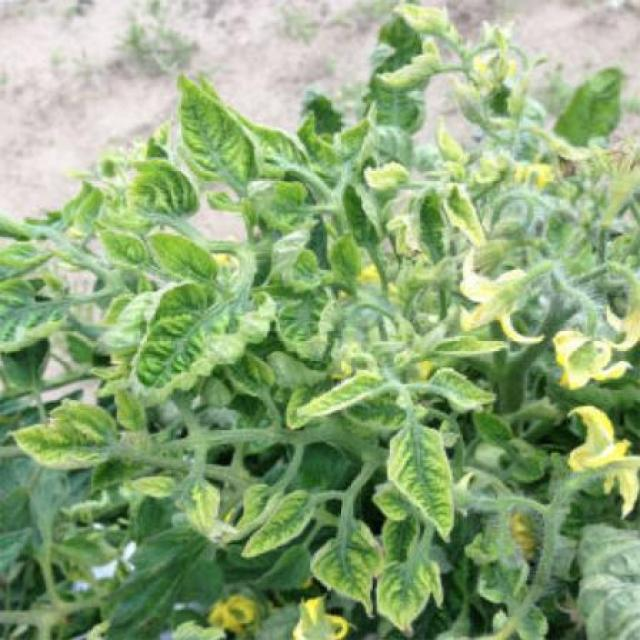Yellow Leaf Curl Virus: (124, 278, 279, 418), (173, 68, 258, 185), (1, 398, 128, 472), (386, 422, 457, 545), (311, 518, 389, 606), (372, 556, 444, 638), (239, 488, 322, 559), (127, 153, 202, 226), (142, 227, 225, 290), (293, 367, 387, 422), (430, 366, 500, 411)
